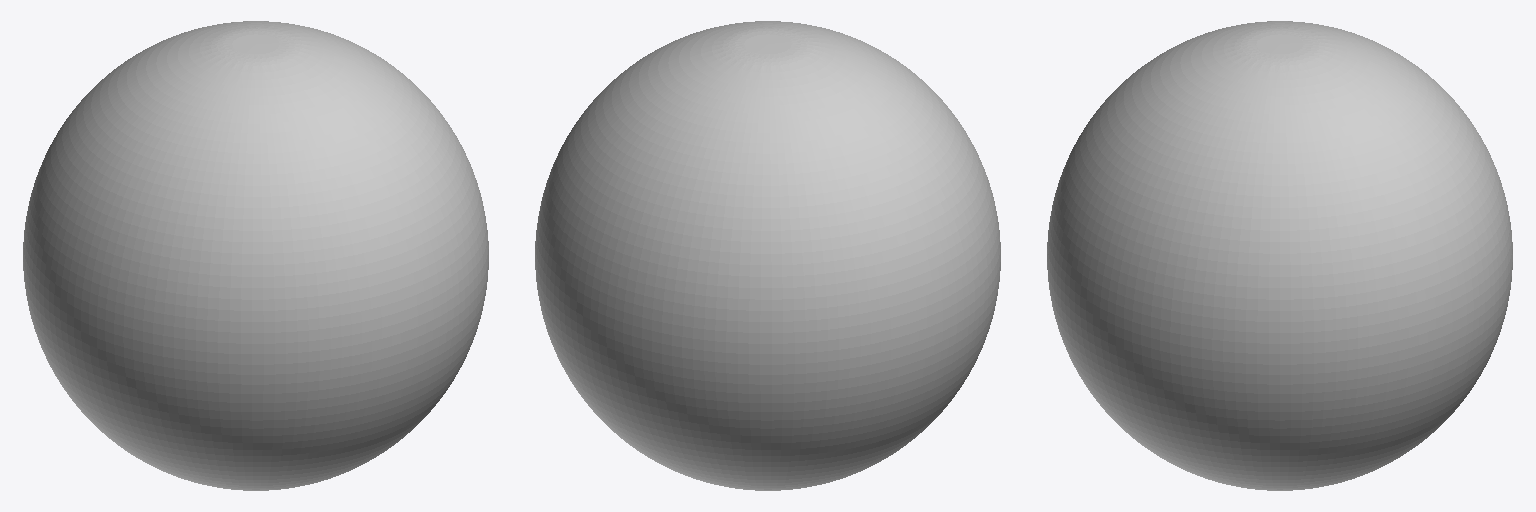
The model's file is sun.obj.
3 views of the same model, side by side, from view 1: azimuth 30°, elevation 25°; view 2: azimuth 150°, elevation 25°; view 3: azimuth 270°, elevation 25° (orthographic).
Visible parts, largest first — view 1: Sphere_Sphere.001; view 2: Sphere_Sphere.001; view 3: Sphere_Sphere.001.
Part boxes in pixels (bbox=[...]): Sphere_Sphere.001: bbox=[23, 21, 488, 490]; Sphere_Sphere.001: bbox=[535, 21, 1000, 490]; Sphere_Sphere.001: bbox=[1047, 21, 1512, 490].
Size of the model in its own units: 1364 by 1368 by 1364.